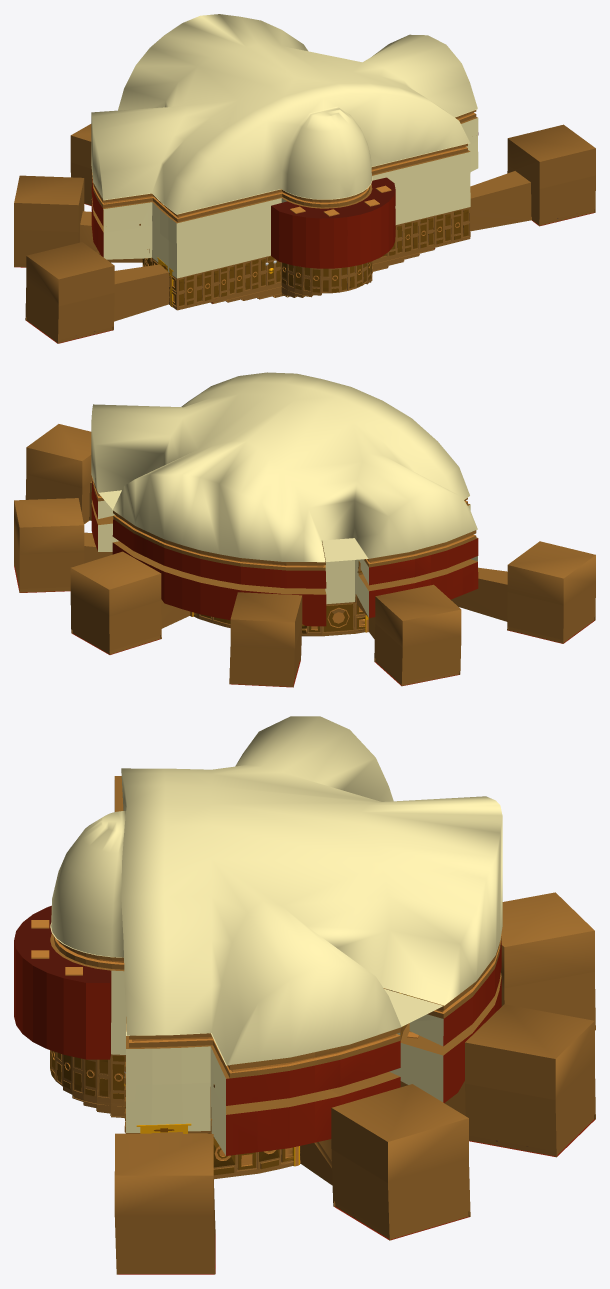
File: Senate.fbx
The picture shows the model from 3 angles, top to bottom: view 1: azimuth 30°, elevation 25°; view 2: azimuth 150°, elevation 25°; view 3: azimuth 270°, elevation 25°; orthographic projection. The views are drawn at different scales.
Visible parts, largest first — view 1: Cylinder.010; view 2: Cylinder.010; view 3: Cylinder.010.
Boxes of the visible parts, <box> form: Cylinder.010: <box>14,14,595,343</box>; Cylinder.010: <box>14,372,595,687</box>; Cylinder.010: <box>14,716,595,1274</box>.
Size of the model in its own units: 6043 by 2016 by 3716.
